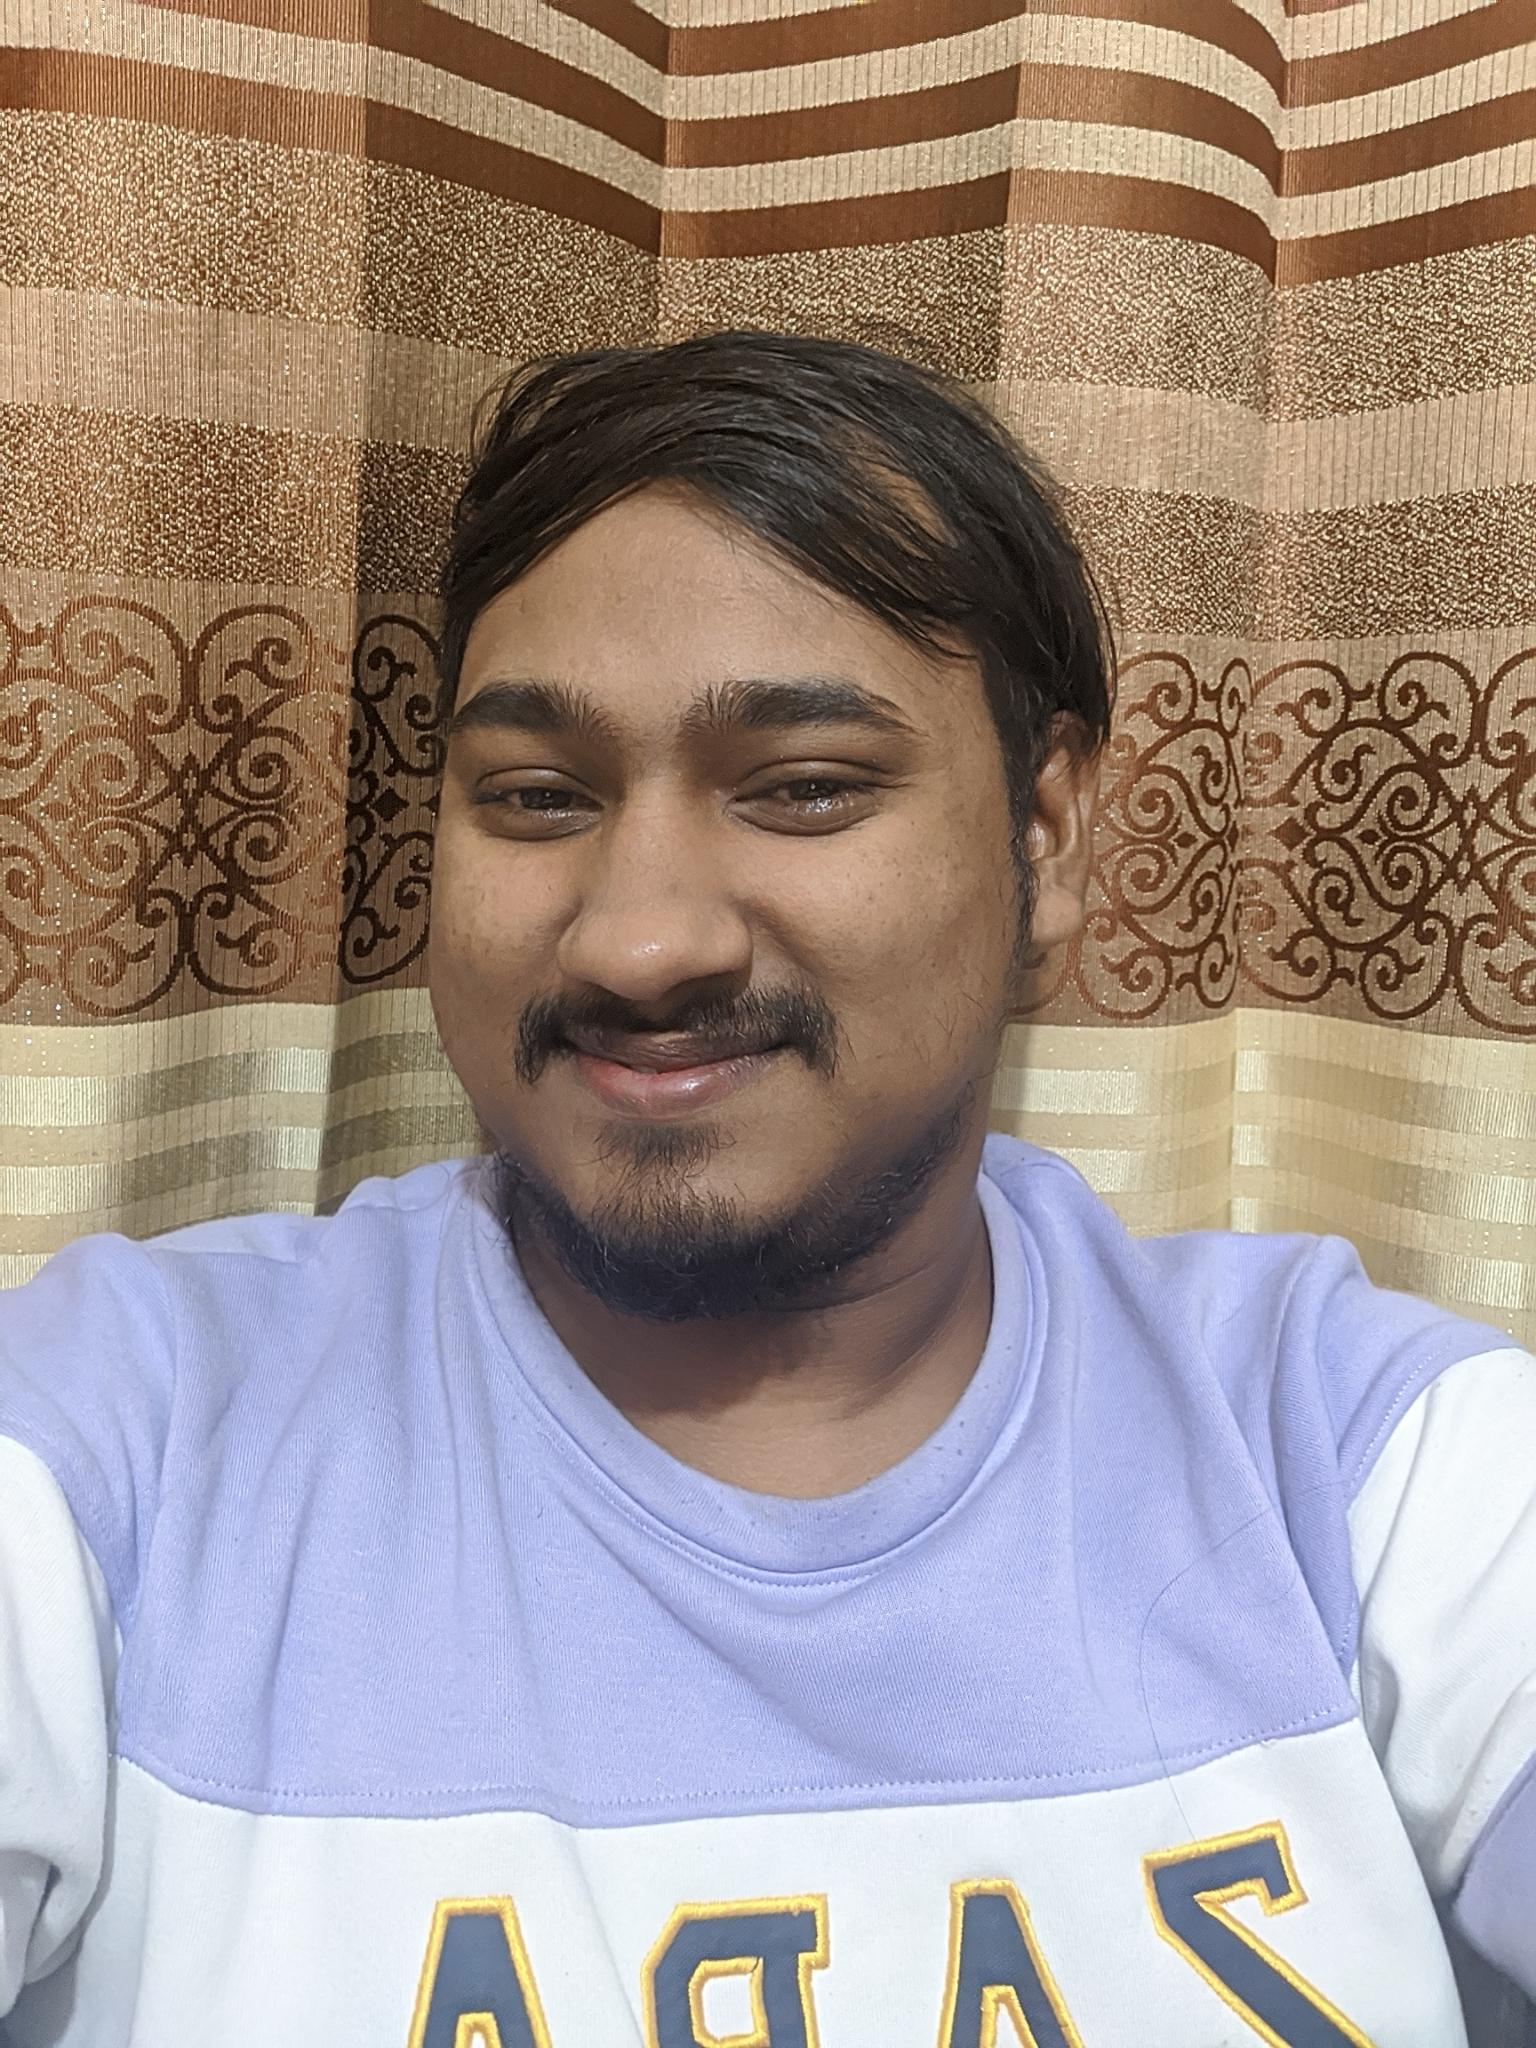Happy: (437, 597, 973, 1279)
